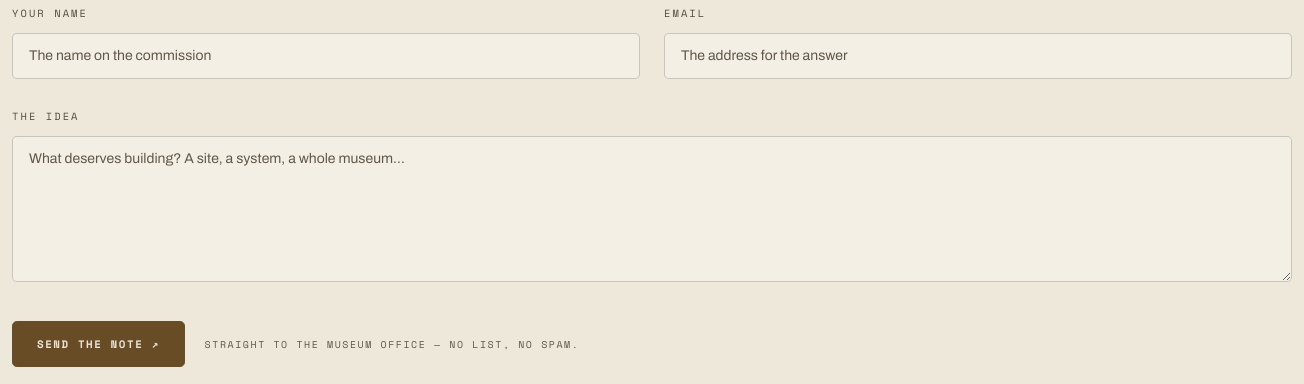
Test case: ContactForm › recovers when the wire refuses the note
The image size is (1304, 384).
Type "Yasmine" into the field labelled "Your name" at (326, 56), box [12,33,640,79]
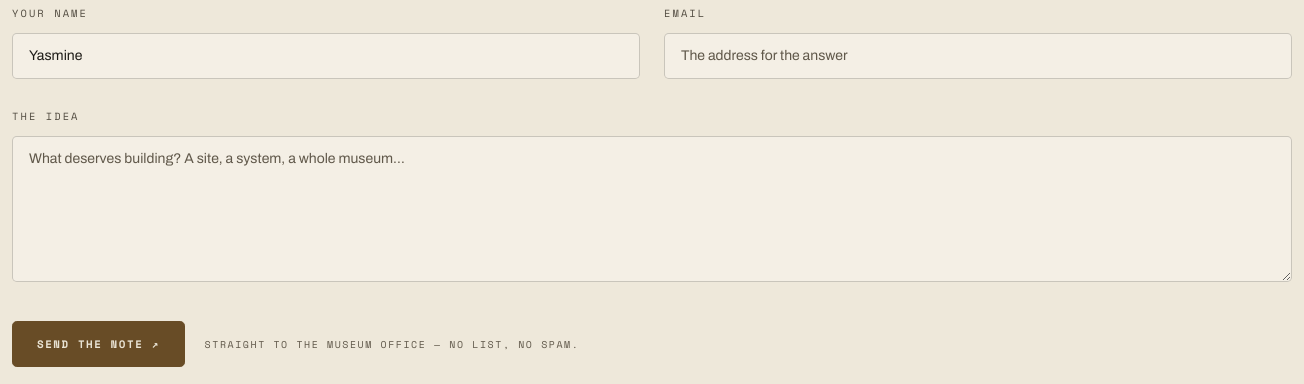
Type "yasmine@example.com" into the field labelled "Email" at (978, 56), box [664,33,1292,79]
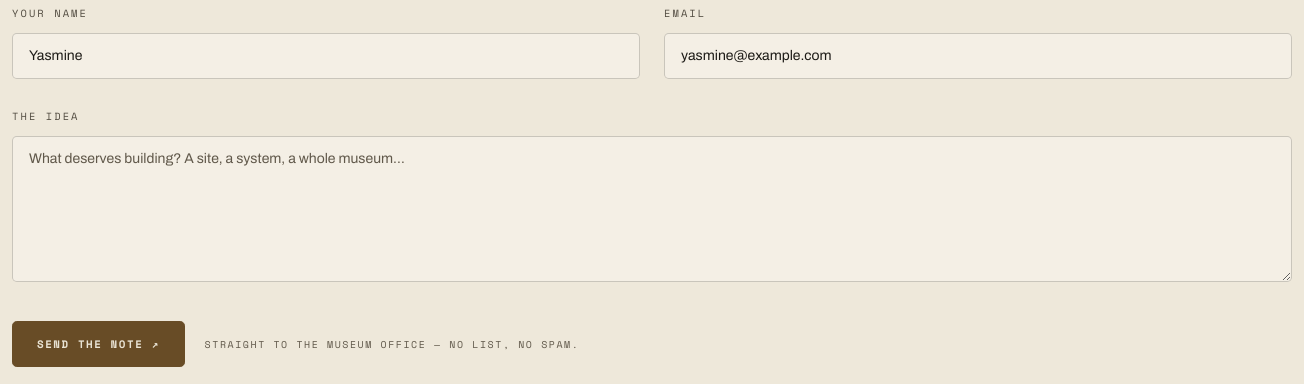
Type "A commission for a booking system." into the text box labelled "The idea" at (652, 209), box [12,136,1292,282]
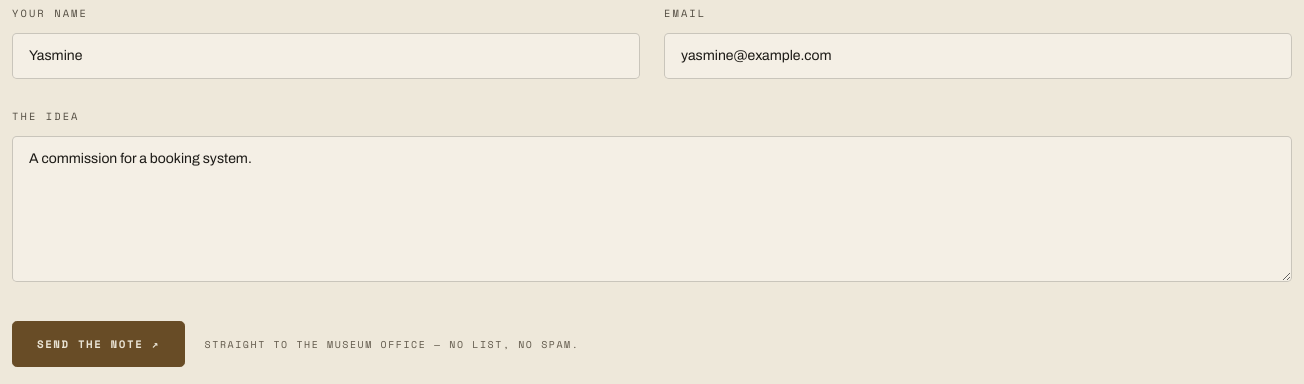
Click the button "Send the note ↗" at (98, 344), box [12,321,185,367]
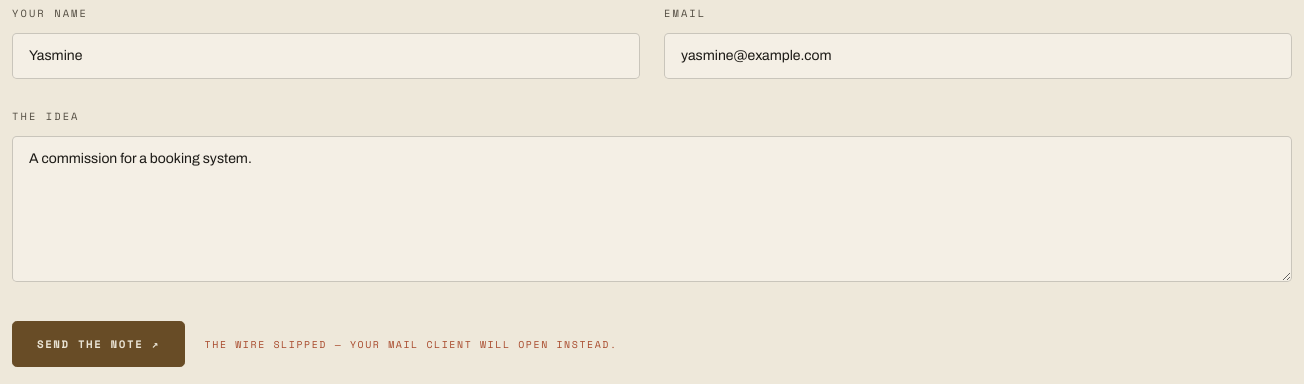
Expected: the text "The wire slipped — your mail client will open instead." is shown, [205,337,618,352]
